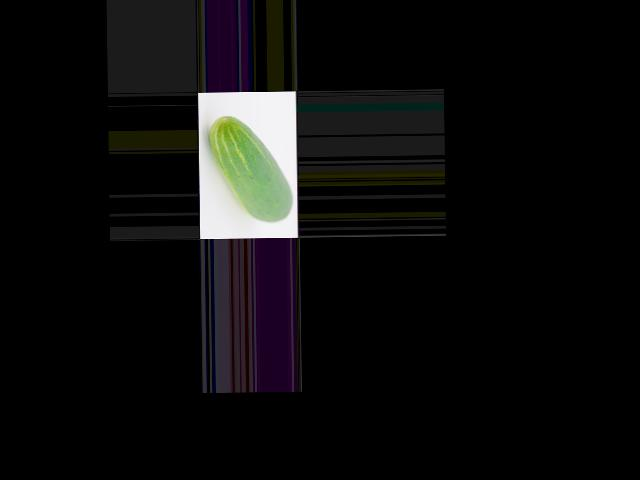cucumber: (208, 115, 292, 223)
